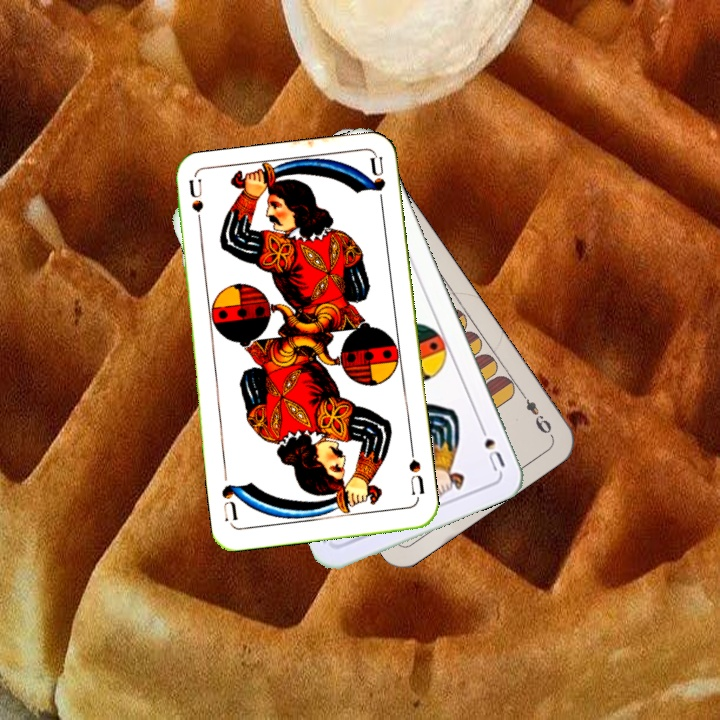E9: (516, 387, 555, 439)
SU: (474, 418, 508, 474), (185, 177, 206, 237), (405, 444, 427, 497)
